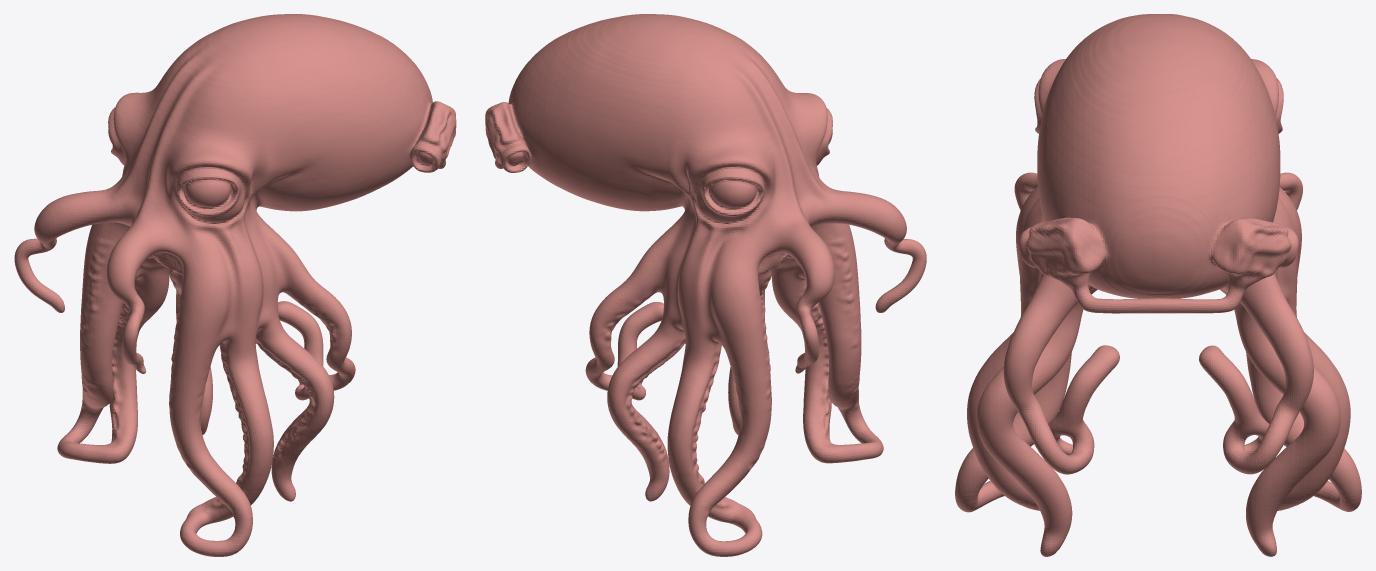
The model's file is exploded_parts.glb.
The picture shows the model from 3 angles, left to right: view 1: azimuth 30°, elevation 25°; view 2: azimuth 150°, elevation 25°; view 3: azimuth 270°, elevation 25°; orthographic projection. The views are drawn at different scales.
Visible parts, largest first — view 1: part_001_24d2bc9d_e1_restored_001; view 2: part_001_24d2bc9d_e1_restored_001; view 3: part_001_24d2bc9d_e1_restored_001.
Part boxes in pixels (x1,y1,x2,y2): part_001_24d2bc9d_e1_restored_001: [14, 14, 456, 556]; part_001_24d2bc9d_e1_restored_001: [485, 14, 926, 556]; part_001_24d2bc9d_e1_restored_001: [955, 14, 1361, 556].
Size of the model in its own units: 0.513 by 0.6147 by 0.4109.
